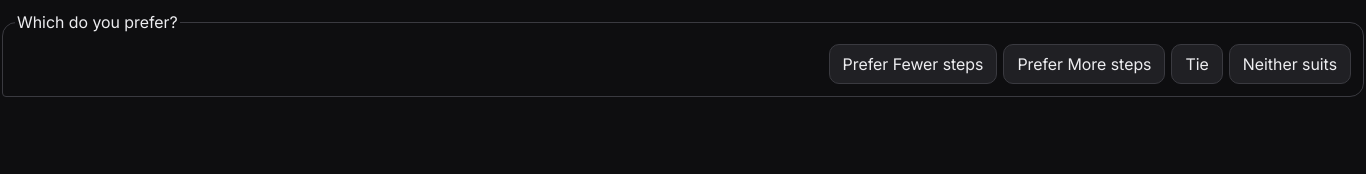
Test: says a tie or neither suiting without naming a choice
Click the button "Tie" at {"x": 1197, "y": 64}, box [1172,44,1223,84]
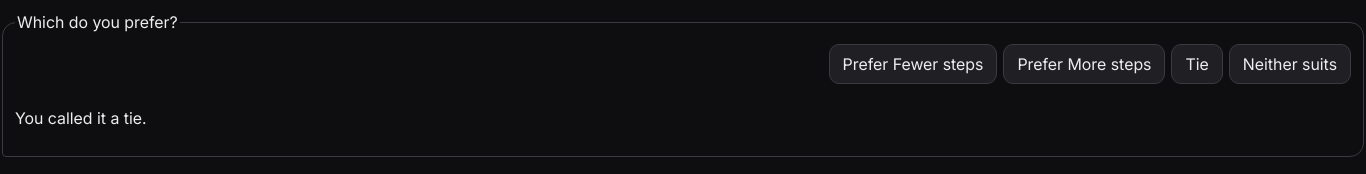
Now the text "You called it a tie." is shown, box [15,108,147,128]
Click the button "Neither suits" at {"x": 1290, "y": 64}, box [1229,44,1351,84]
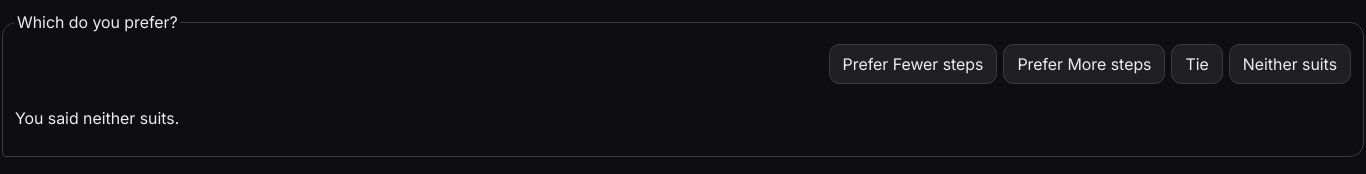
Now the text "You said neither suits." is shown, box [15,108,179,128]
